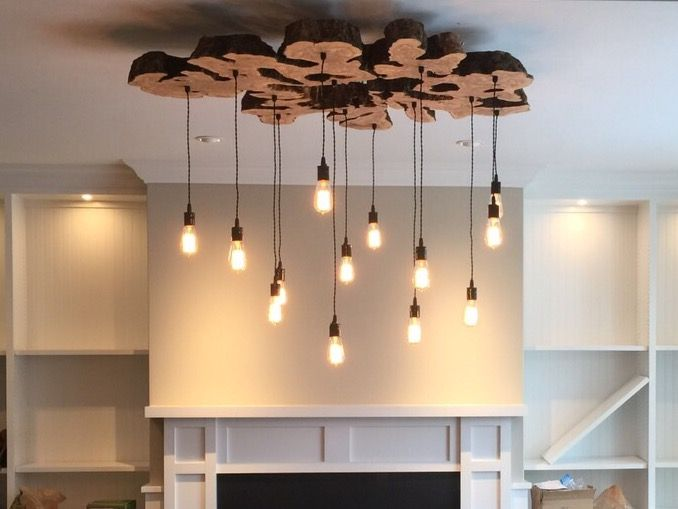chandelier: (122, 16, 542, 369)
